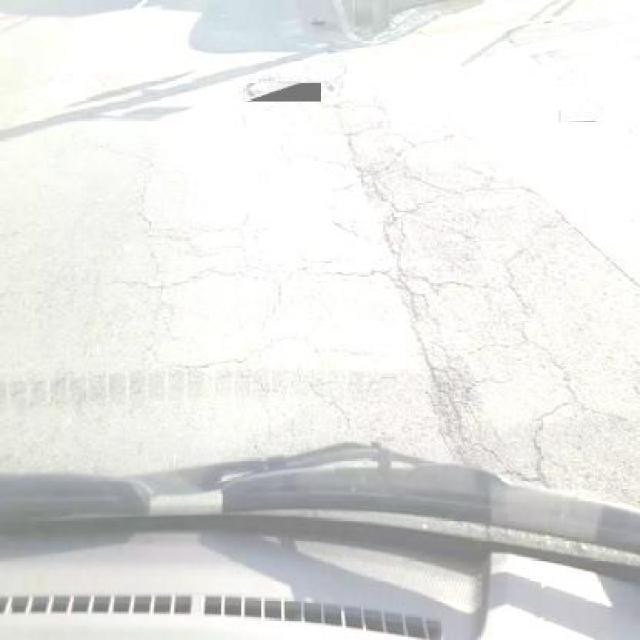Manhole: (243, 82, 320, 102), (557, 100, 594, 122)
